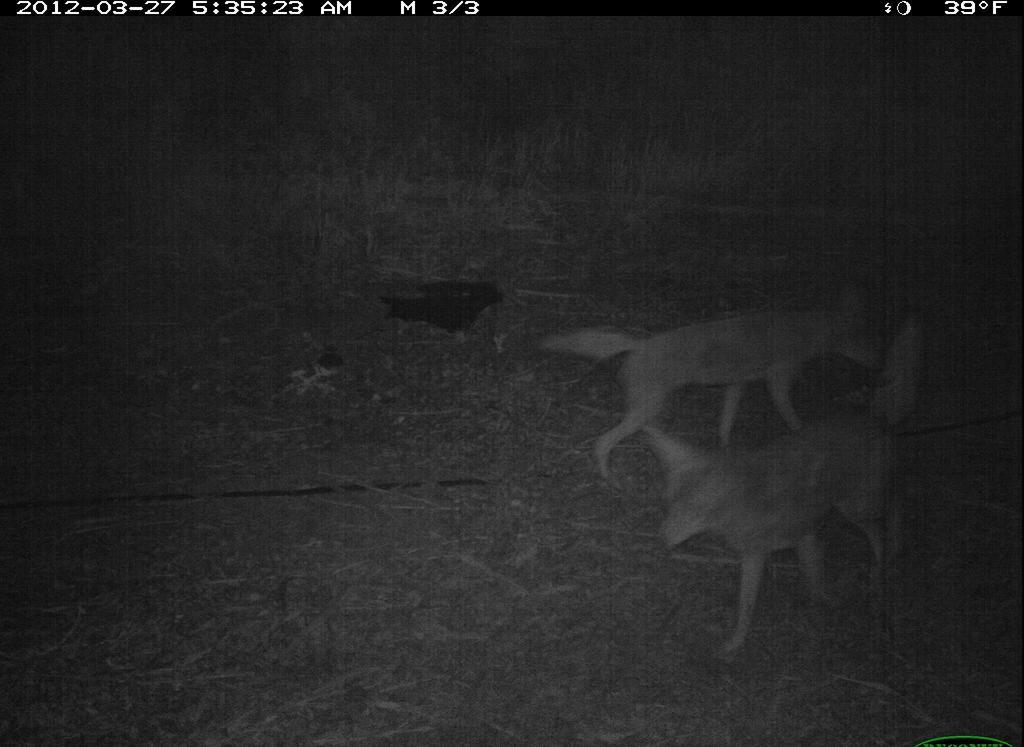coyote: (641, 408, 939, 662), (546, 272, 882, 484)
